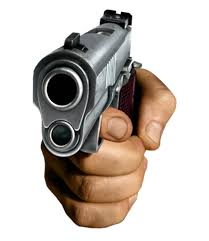gun: (31, 8, 178, 229)
